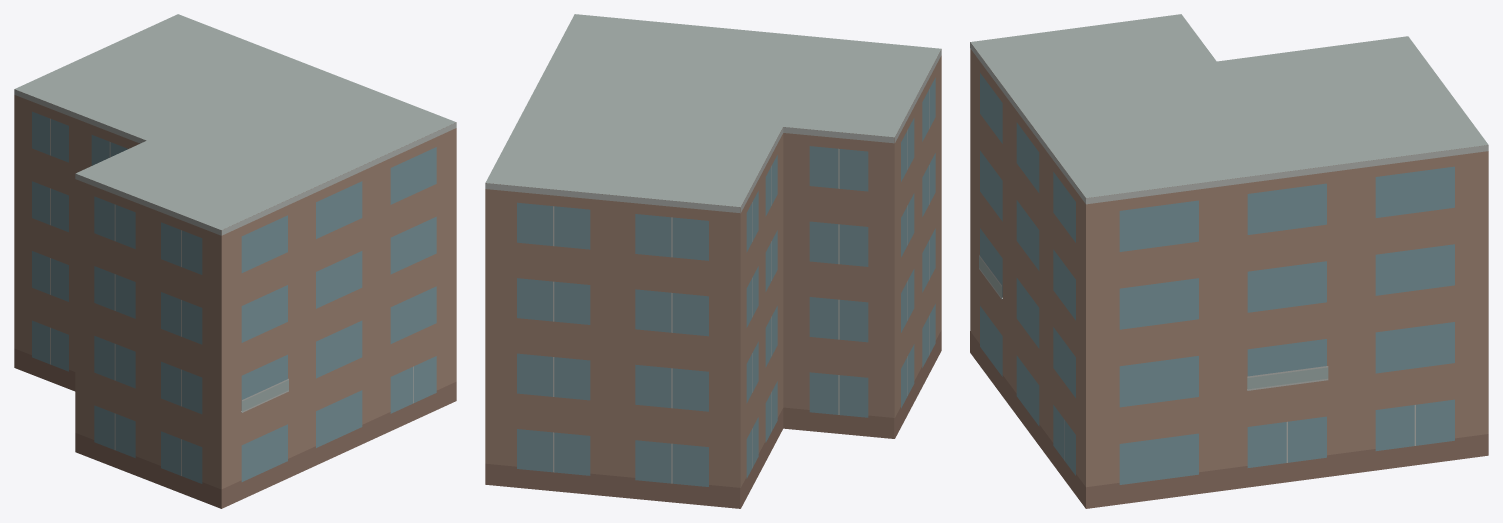
File: residential-446b3176-d020-48c1-bbc0-58e2f97d6d7e.glb
3 renders of one model, left to right at view 1: azimuth 30°, elevation 25°; view 2: azimuth 150°, elevation 25°; view 3: azimuth 270°, elevation 25°, orthographic. The views are drawn at different scales.
Parts seen in each view (by area): view 1: residential-446b3176-d020-48c1-bbc0-58e2f97d6d7e.tmp; view 2: residential-446b3176-d020-48c1-bbc0-58e2f97d6d7e.tmp; view 3: residential-446b3176-d020-48c1-bbc0-58e2f97d6d7e.tmp.
Boxes of the visible parts, x1,y1,x2,y2 form: residential-446b3176-d020-48c1-bbc0-58e2f97d6d7e.tmp: [14, 14, 456, 508]; residential-446b3176-d020-48c1-bbc0-58e2f97d6d7e.tmp: [485, 14, 941, 508]; residential-446b3176-d020-48c1-bbc0-58e2f97d6d7e.tmp: [970, 14, 1488, 508].
Size of the model in its own units: 15.52 by 12.2 by 18.46.
